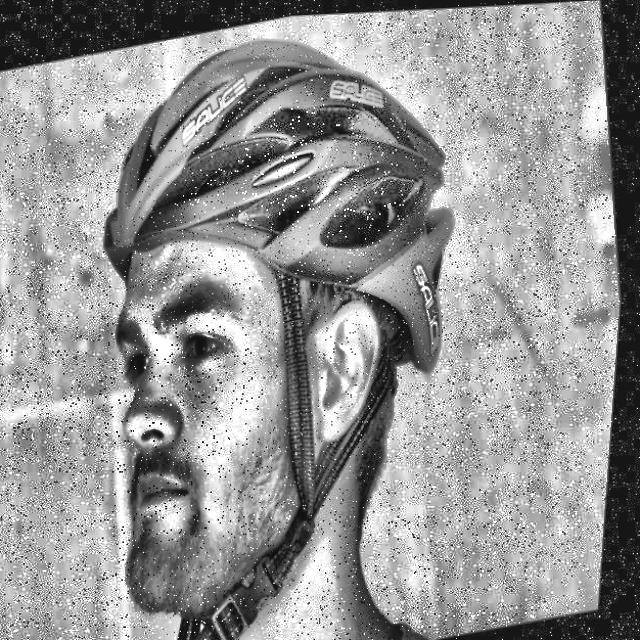Helmet: (49, 2, 536, 640)
